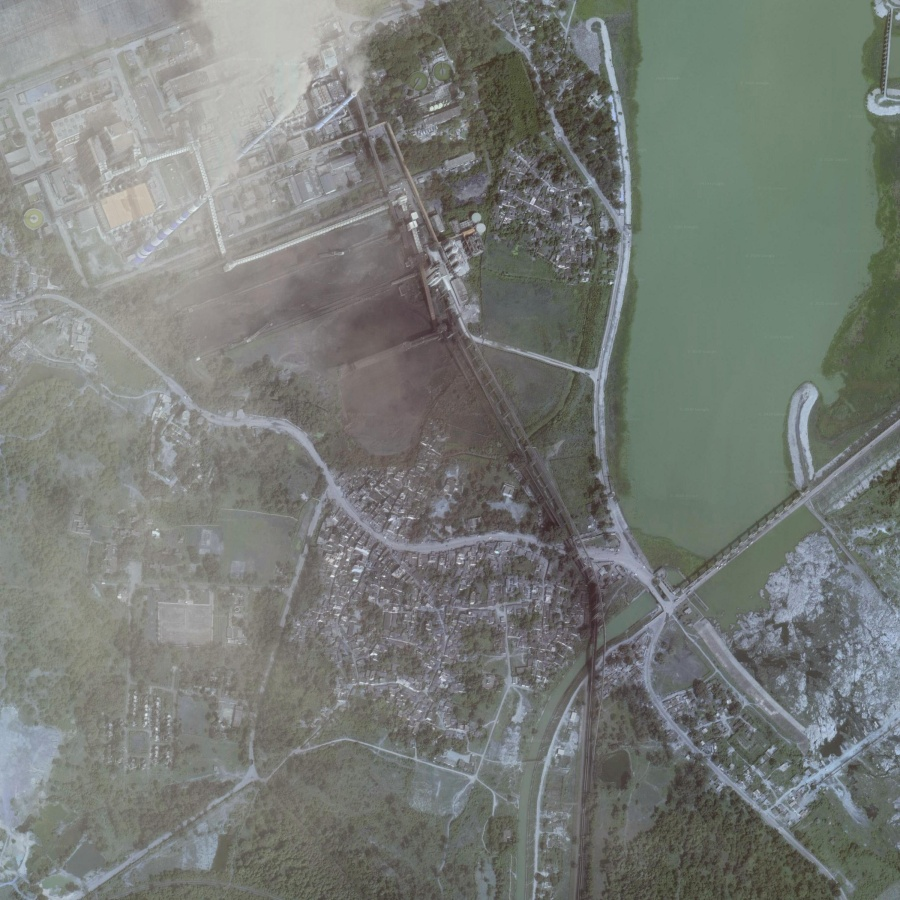PowerPlant: (94, 14, 384, 295)
